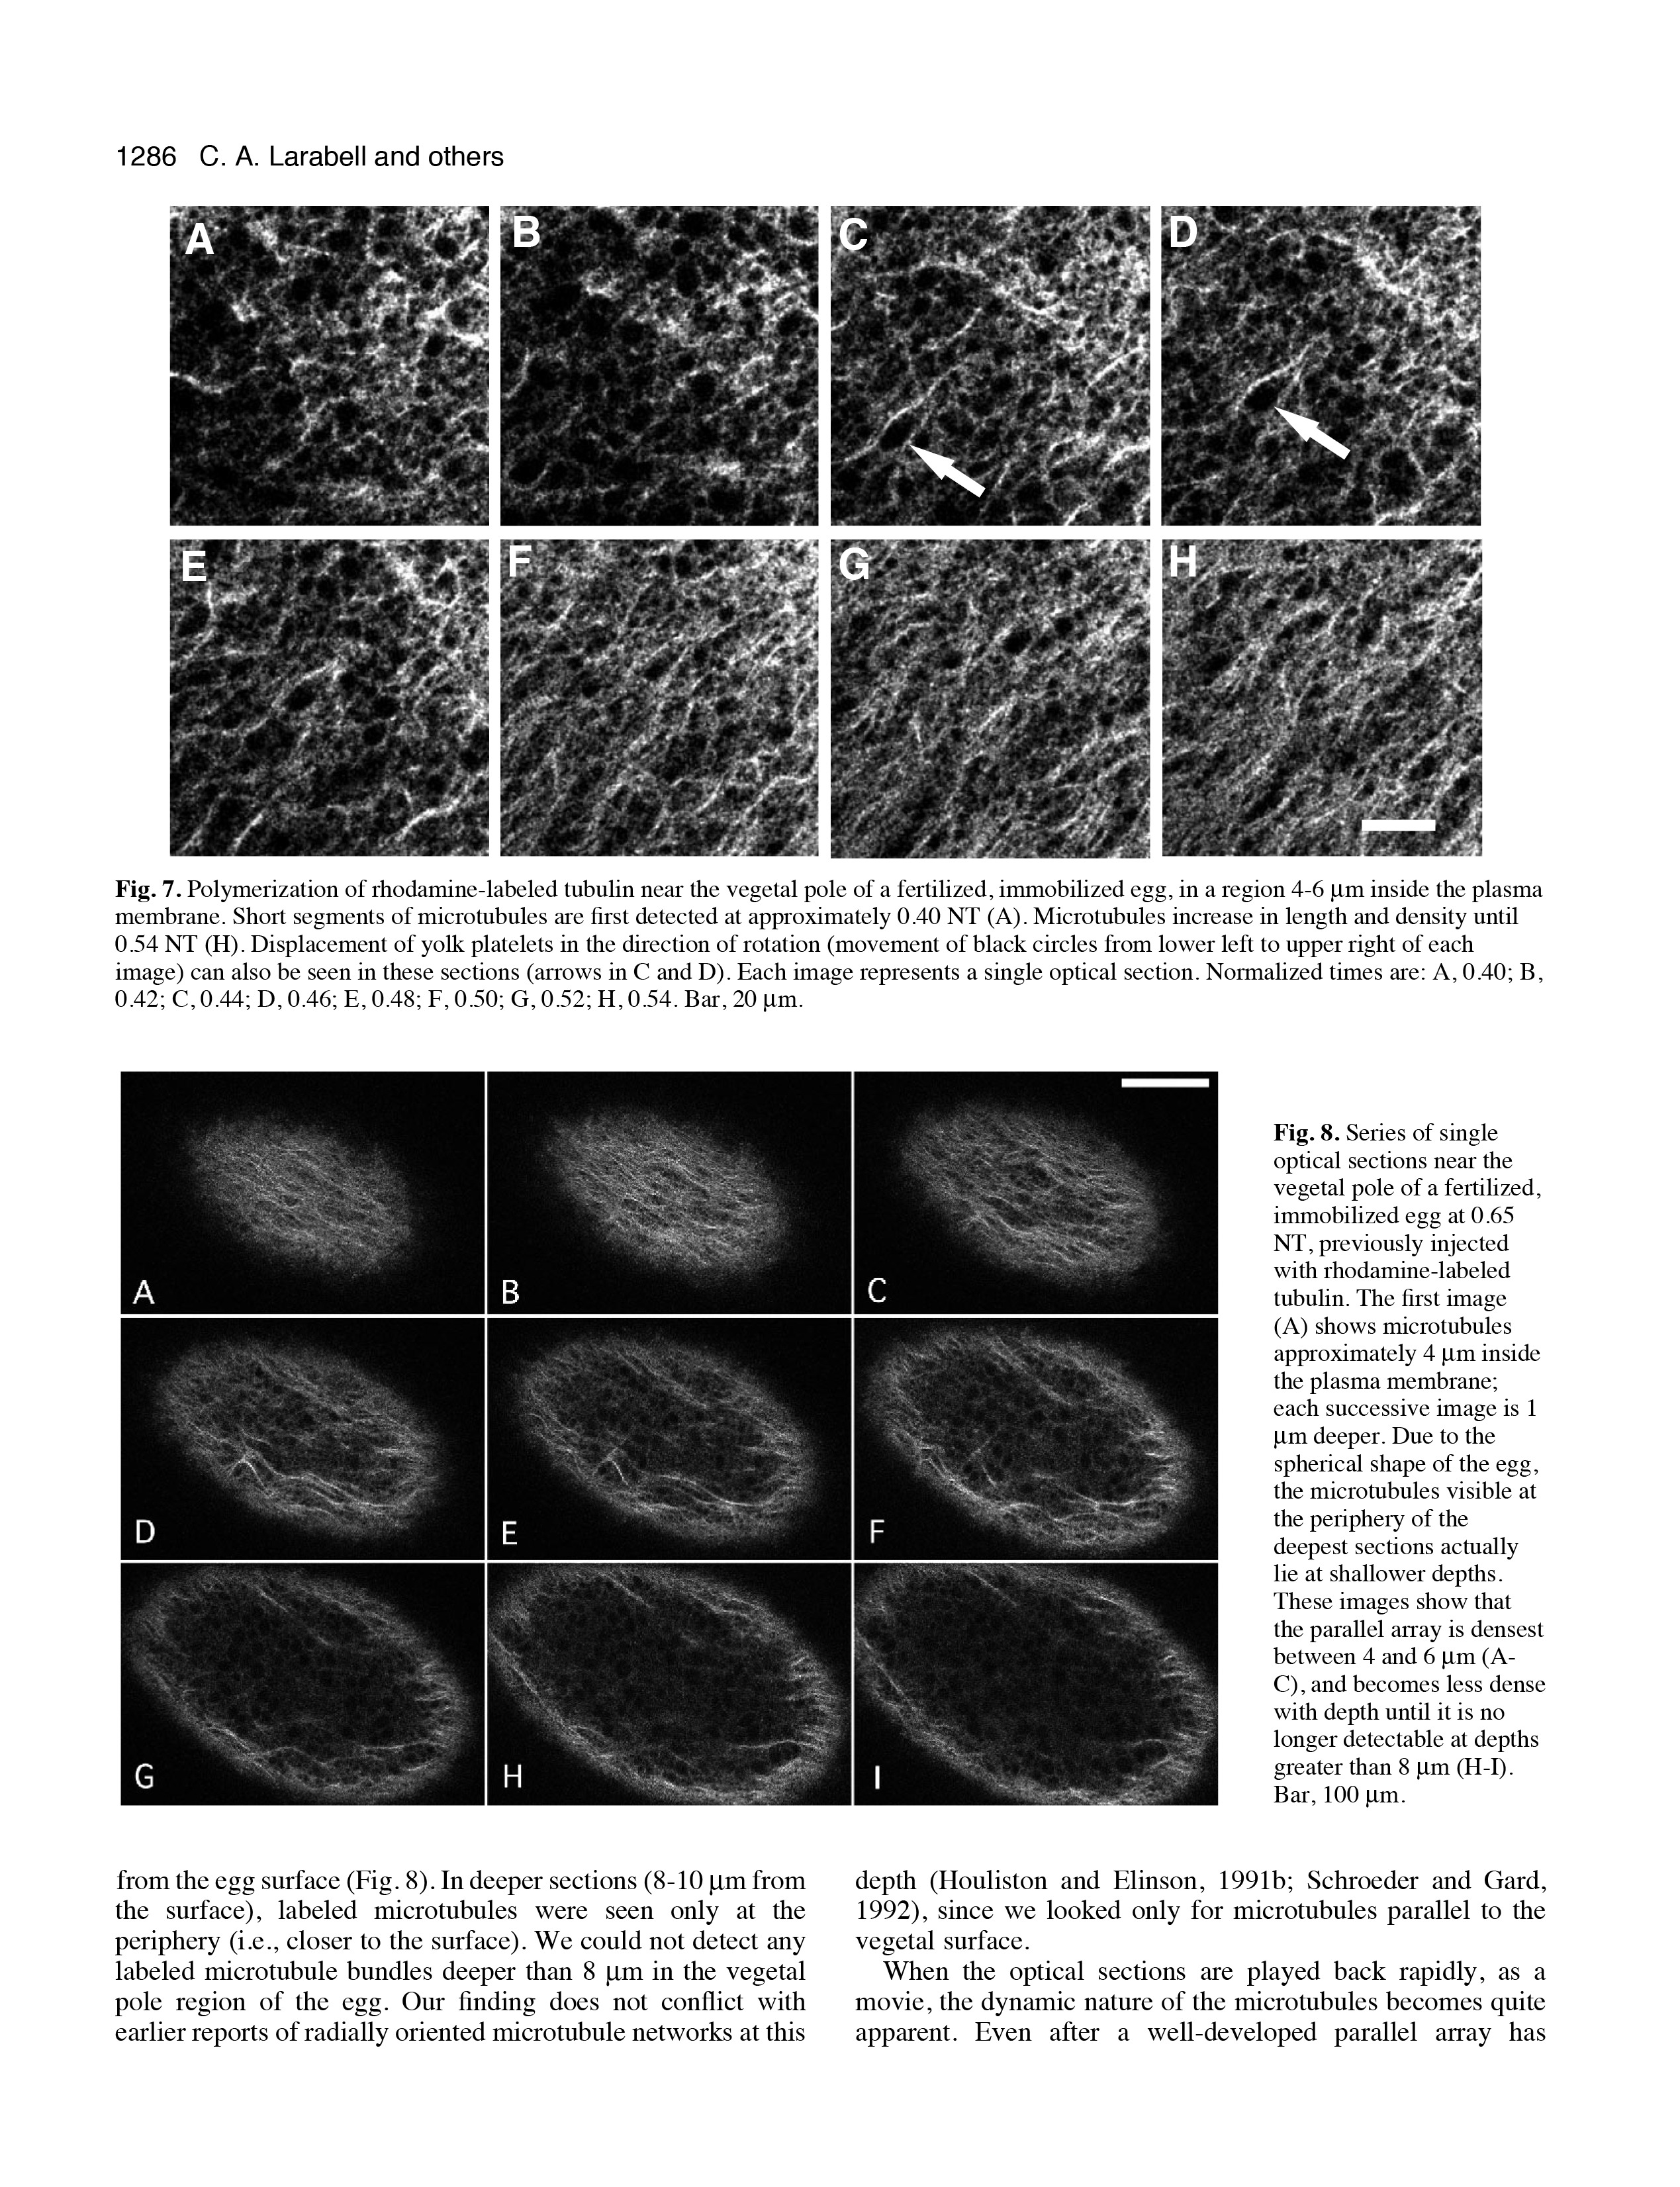caption: (90, 853, 1556, 1024), (1279, 1114, 1541, 1823)
figure: (184, 207, 1489, 863), (124, 1070, 1214, 1800)
text: (106, 1878, 803, 2074), (847, 1961, 1541, 2071), (854, 1875, 1548, 1950)
